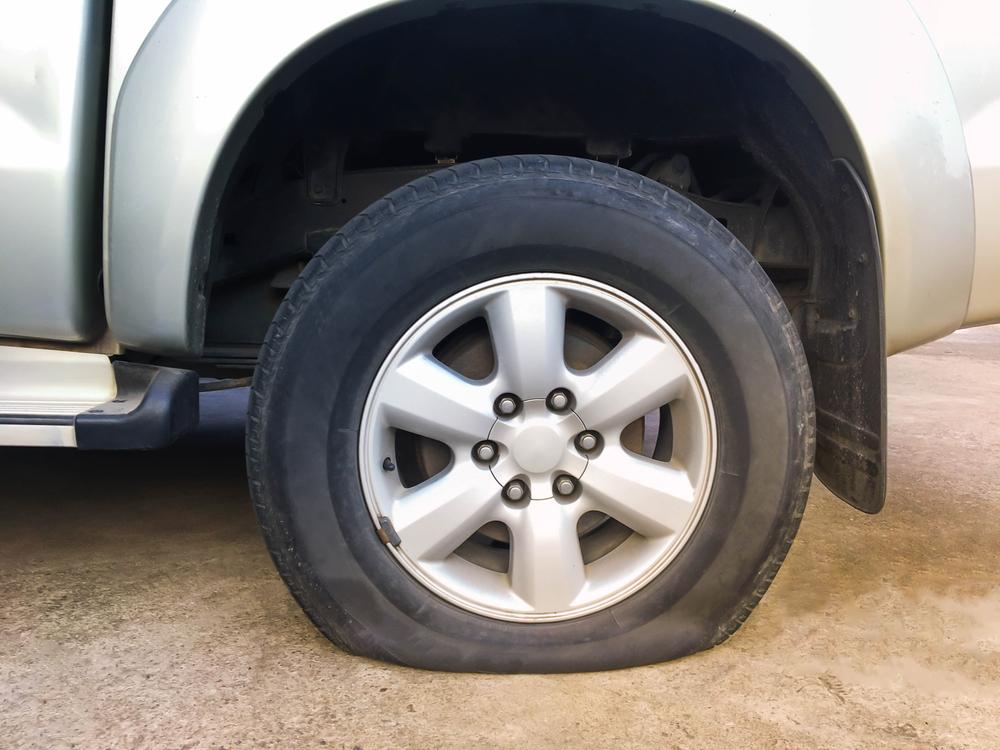tire flat: (244, 151, 816, 671)
